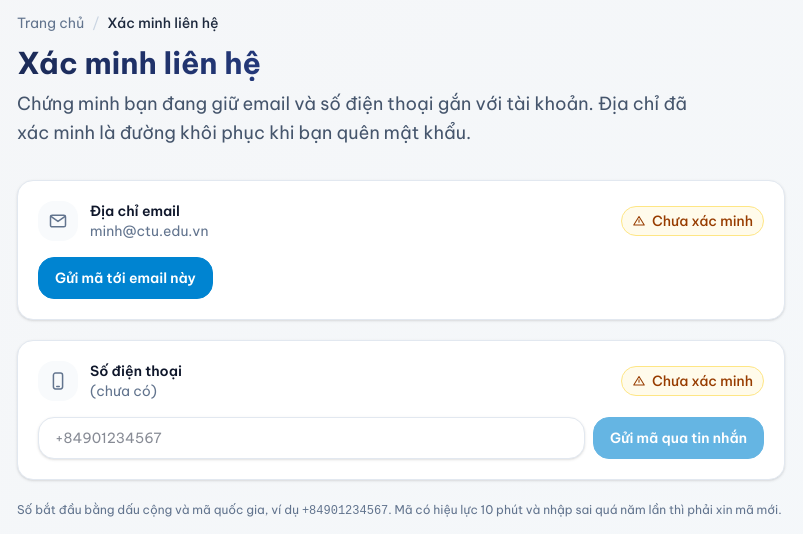
Số điện thoại phải đúng dạng trước khi gửi › khoá nút cho tới khi có mã quốc gia
Check: the button "Gửi mã qua tin nhắn" is shown, box [593,416,764,458]
Type "0901234567" into the field named "Số điện thoại nhận mã" at (312, 438), box [38,416,585,458]
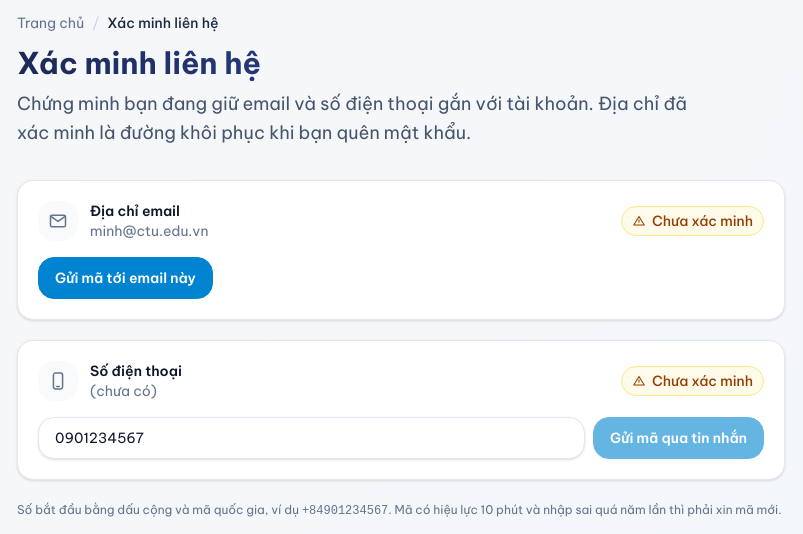
Check: the button "Gửi mã qua tin nhắn" is disabled, box [593,416,764,458]
Replace the text in the field named "Số điện thoại nhận mã" with "+84901234567" at (312, 438), box [38,416,585,458]
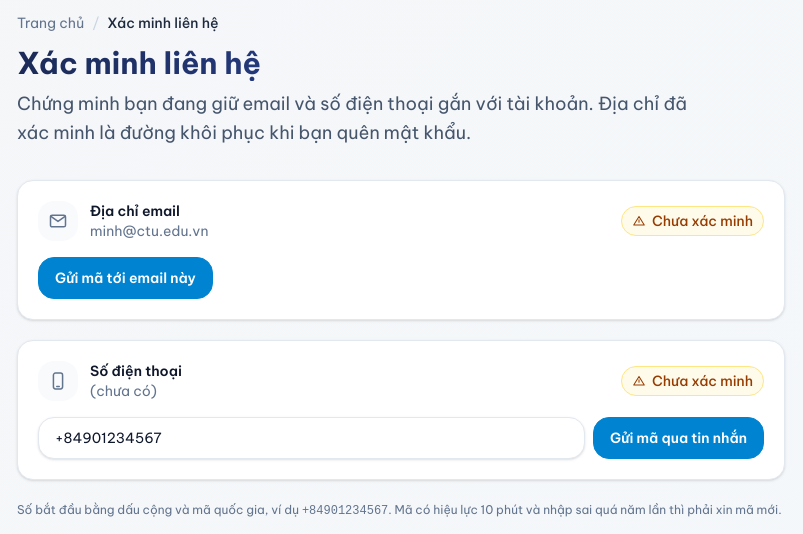
Check: the button "Gửi mã qua tin nhắn" is enabled, box [593,416,764,458]
